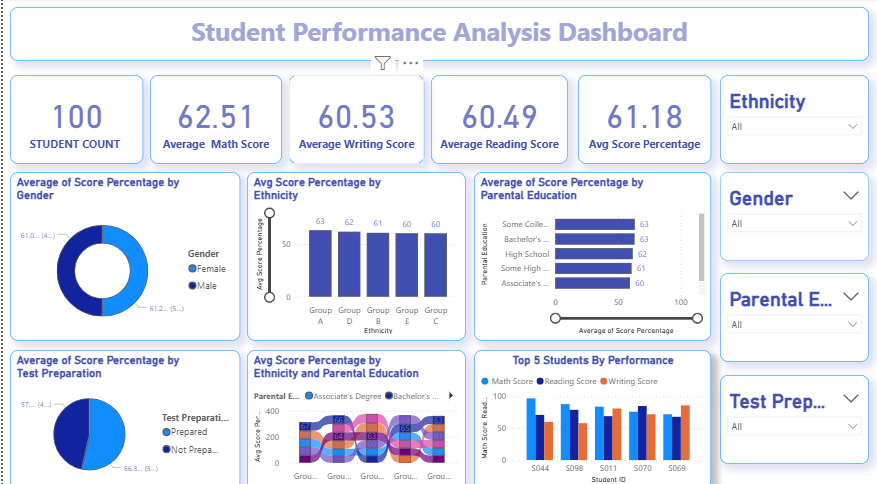

The page's visual inventory and layout, read from the dashboard file:
{"tool":"powerbi","page":{"name":"STUDENT PERFORMANCE ","canvas":[1280,720],"ordinal":0},"visuals":[{"type":"textbox","box":[10.2,13.2,1257.1,79],"z":0},{"type":"card","fields":{"Values":["CountNonNull(Sheet1.Student ID)"]},"box":[10.2,112.7,194.6,130.2],"z":1000},{"type":"card","fields":{"Values":["Avg(Sheet1.Math Score)"]},"box":[215.1,112.7,193.2,130.2],"z":2000},{"type":"card","fields":{"Values":["Avg(Sheet1.Reading Score)"]},"box":[626.3,112.7,200.5,130.2],"z":3000},{"type":"card","fields":{"Values":["Avg(Sheet1.Writing Score)"]},"box":[418.5,112.7,197.6,130.2],"z":4000},{"type":"slicer","fields":{"Values":["Sheet1.Ethnicity"]},"box":[1049.3,112.7,218,130.2],"z":5000},{"type":"slicer","fields":{"Values":["Sheet1.Gender"]},"box":[1049.3,254.6,218,130.2],"z":6000},{"type":"card","fields":{"Values":["Avg(Sheet1.Score Percentage)"]},"box":[841.5,112.7,194.6,130.2],"z":7000},{"type":"slicer","fields":{"Values":["Sheet1.Parental Education"]},"box":[1049.3,402.4,218,130.2],"z":8000},{"type":"columnChart","fields":{"Category":["Sheet1.Ethnicity"],"Y":["Avg(Sheet1.Score Percentage)"]},"box":[357.1,254.6,320.5,247.3],"z":9000},{"type":"donutChart","fields":{"Category":["Sheet1.Gender"],"Y":["Avg(Sheet1.Score Percentage)"]},"box":[10.2,254.6,336.6,247.3],"z":10000},{"type":"clusteredBarChart","fields":{"Category":["Sheet1.Parental Education"],"Y":["Avg(Sheet1.Score Percentage)"]},"box":[689.3,254.6,346.8,247.3],"z":11000},{"type":"pieChart","fields":{"Y":["Avg(Sheet1.Score Percentage)"],"Category":["Sheet1.Test Preparation"]},"box":[10.2,515.1,336.6,204.9],"z":12000},{"type":"ribbonChart","fields":{"Category":["Sheet1.Ethnicity"],"Y":["Avg(Sheet1.Score Percentage)"],"Series":["Sheet1.Parental Education"]},"box":[357.1,515.1,320.5,204.9],"z":13000},{"type":"slicer","fields":{"Values":["Sheet1.Test Preparation"]},"box":[1049.3,551.7,218,130.2],"z":14000},{"type":"clusteredColumnChart","title":"Top 5 Students By Performance","fields":{"Y":["Avg(Sheet1.Math Score)","Avg(Sheet1.Reading Score)","Avg(Sheet1.Writing Score)"],"Category":["Sheet1.Student ID"]},"box":[689,515,347,205],"z":15000}]}

Visuals, with their boxes in screenshot pixels (x1, y1, x2, y2), scaled from the page's 1280x720 canvas onto the 877x484 screenshot:
textbox: [7,9,868,62]
card - CountNonNull(Sheet1.Student ID): [7,76,140,163]
card - Avg(Sheet1.Math Score): [147,76,280,163]
card - Avg(Sheet1.Reading Score): [429,76,566,163]
card - Avg(Sheet1.Writing Score): [287,76,422,163]
slicer - Sheet1.Ethnicity: [719,76,868,163]
slicer - Sheet1.Gender: [719,171,868,259]
card - Avg(Sheet1.Score Percentage): [577,76,710,163]
slicer - Sheet1.Parental Education: [719,271,868,358]
columnChart - Sheet1.Ethnicity x Avg(Sheet1.Score Percentage): [245,171,464,337]
donutChart - Sheet1.Gender x Avg(Sheet1.Score Percentage): [7,171,238,337]
clusteredBarChart - Sheet1.Parental Education x Avg(Sheet1.Score Percentage): [472,171,710,337]
pieChart - Avg(Sheet1.Score Percentage) x Sheet1.Test Preparation: [7,346,238,483]
ribbonChart - Sheet1.Ethnicity x Avg(Sheet1.Score Percentage): [245,346,464,483]
slicer - Sheet1.Test Preparation: [719,371,868,458]
"Top 5 Students By Performance" clusteredColumnChart: [472,346,710,483]
